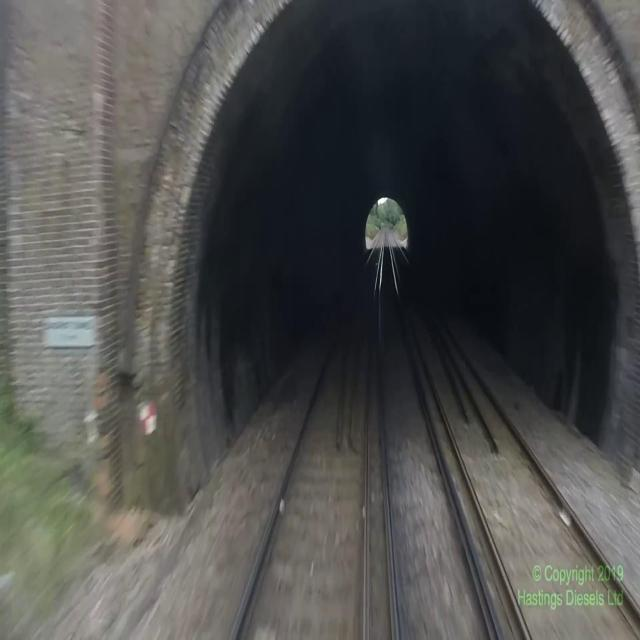rail-track: (390, 231, 640, 639), (234, 236, 382, 639)
